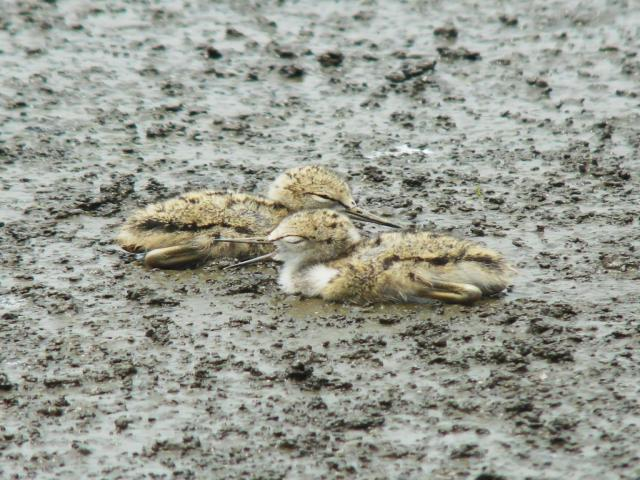Bird: (117, 162, 400, 272), (213, 208, 512, 305)
